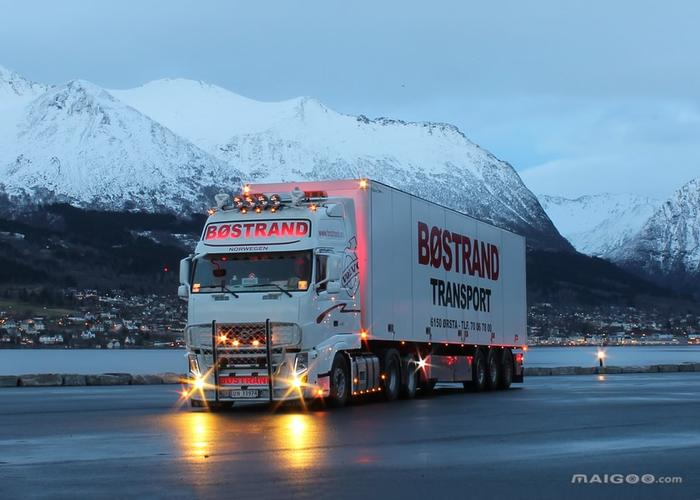卡车: (172, 175, 542, 413)
